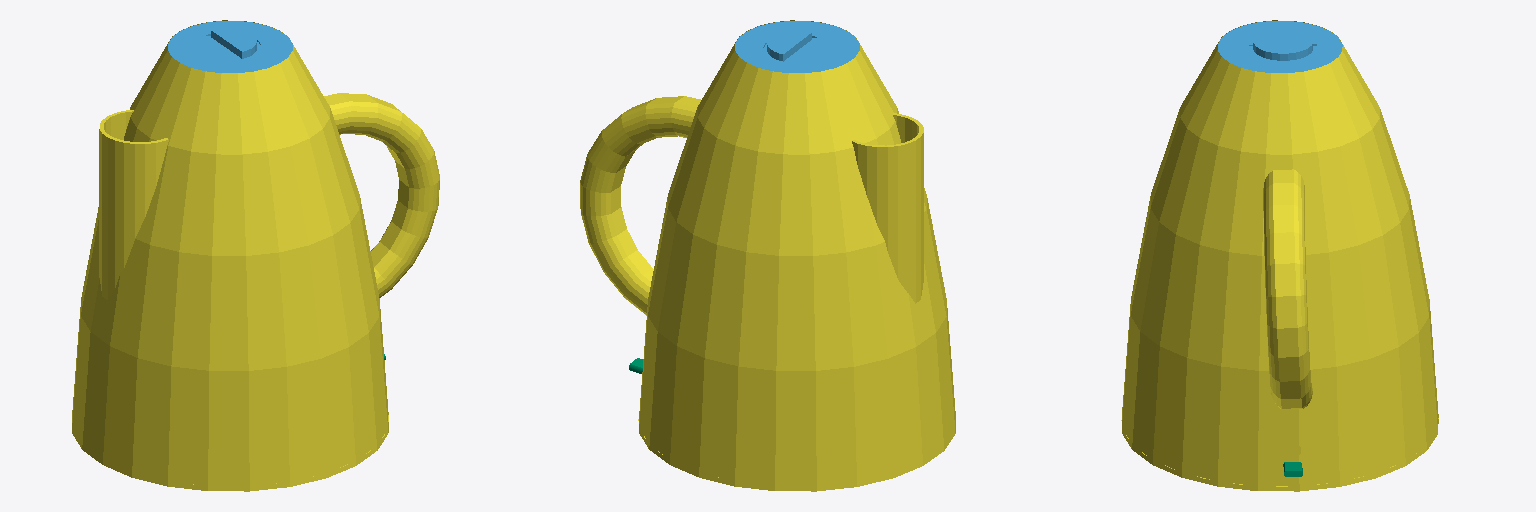
URDF robot description (partnet_1f8cfb9b76ea9c53bb91b303f29923d1-0):
<?xml version="1.0" ?>
<robot name="partnet_1f8cfb9b76ea9c53bb91b303f29923d1-0">
	<link name="base"/>
	<link name="link_0">
		<visual name="lid-1">
			<origin xyz="-0.0 -0.0 -0.0"/>
			<geometry>
				<mesh filename="textured_objs/original-4.obj"/>
			</geometry>
		</visual>
		<collision>
			<origin xyz="-0.0 -0.0 -0.0"/>
			<geometry>
				<mesh filename="textured_objs/original-4.obj"/>
			</geometry>
		</collision>
	</link>
	<joint name="joint_0" type="prismatic">
		<origin xyz="0.0 0.0 0.0"/>
		<axis xyz="0.0 1.0 0.0"/>
		<child link="link_0"/>
		<parent link="link_2"/>
		<limit lower="0" upper="0.01"/>
	</joint>
	<link name="link_1">
		<visual name="button-3">
			<origin xyz="-0.0 0.591363688827684 0.5589183487445102"/>
			<geometry>
				<mesh filename="textured_objs/original-5.obj"/>
			</geometry>
		</visual>
		<collision>
			<origin xyz="-0.0 0.591363688827684 0.5589183487445102"/>
			<geometry>
				<mesh filename="textured_objs/original-5.obj"/>
			</geometry>
		</collision>
	</link>
	<joint name="joint_1" type="revolute">
		<origin xyz="0.0 -0.591363688827684 -0.5589183487445102"/>
		<axis xyz="-1.0 -0.0 -0.0"/>
		<child link="link_1"/>
		<parent link="link_2"/>
		<limit lower="-0.0" upper="0.2617993877991494"/>
	</joint>
	<link name="link_2">
		<visual name="handle-2">
			<origin xyz="0 0 0"/>
			<geometry>
				<mesh filename="textured_objs/original-1.obj"/>
			</geometry>
		</visual>
		<visual name="base_body-4">
			<origin xyz="0 0 0"/>
			<geometry>
				<mesh filename="textured_objs/original-3.obj"/>
			</geometry>
		</visual>
		<visual name="base_body-4">
			<origin xyz="0 0 0"/>
			<geometry>
				<mesh filename="textured_objs/original-2.obj"/>
			</geometry>
		</visual>
		<visual name="base_body-4">
			<origin xyz="0 0 0"/>
			<geometry>
				<mesh filename="textured_objs/original-6.obj"/>
			</geometry>
		</visual>
		<collision>
			<origin xyz="0 0 0"/>
			<geometry>
				<mesh filename="textured_objs/original-1.obj"/>
			</geometry>
		</collision>
		<collision>
			<origin xyz="0 0 0"/>
			<geometry>
				<mesh filename="textured_objs/original-3.obj"/>
			</geometry>
		</collision>
		<collision>
			<origin xyz="0 0 0"/>
			<geometry>
				<mesh filename="textured_objs/original-2.obj"/>
			</geometry>
		</collision>
		<collision>
			<origin xyz="0 0 0"/>
			<geometry>
				<mesh filename="textured_objs/original-6.obj"/>
			</geometry>
		</collision>
	</link>
	<joint name="joint_2" type="fixed">
		<origin rpy="1.570796326794897 0 -1.570796326794897" xyz="0 0 0"/>
		<child link="link_2"/>
		<parent link="base"/>
	</joint>
</robot>

--- Facts derived from the render (not from the file) ---
The picture shows the robot from 3 angles, left to right: view 1: azimuth 30°, elevation 25°; view 2: azimuth 150°, elevation 25°; view 3: azimuth 270°, elevation 25°; orthographic projection.
Model partnet_1f8cfb9b76ea9c53bb91b303f29923d1-0 with 4 links and 3 joints (1 revolute, 1 prismatic, 1 fixed), rooted at base, posed every joint at zero.
Links seen in each view (by area): view 1: link_2, link_0; view 2: link_2, link_0; view 3: link_2, link_0.
Boxes of the visible links, left/top/right/bottom form: link_2: left=72, top=20, right=439, bottom=491; link_0: left=168, top=21, right=292, bottom=72; link_2: left=580, top=20, right=955, bottom=491; link_0: left=735, top=21, right=859, bottom=72; link_2: left=1121, top=20, right=1438, bottom=491; link_0: left=1218, top=21, right=1342, bottom=72.
Bounding box of the posed robot: 1.6 × 1.27 × 1.69 m (x, y, z).
6 mesh visuals loaded from 6 distinct referenced files (6 OBJ).